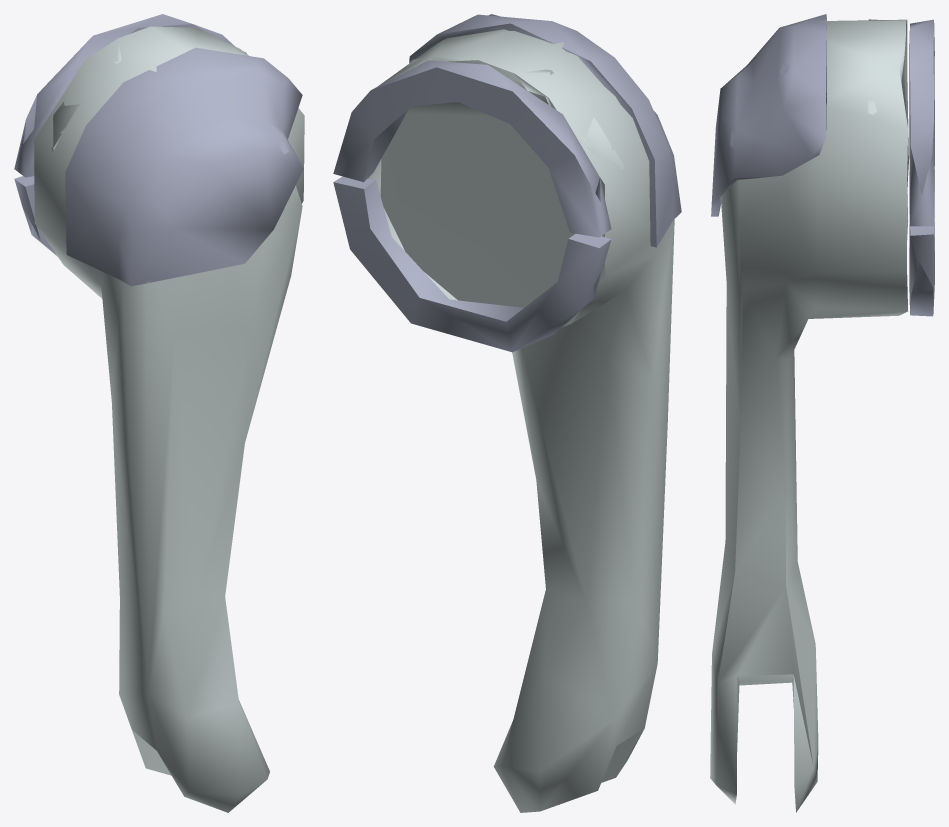
File: thigh_mirror_dae.dae
3 renders of one model, left to right at view 1: azimuth 30°, elevation 25°; view 2: azimuth 150°, elevation 25°; view 3: azimuth 270°, elevation 25°, orthographic. The views are drawn at different scales.
Visible parts, largest first — view 1: thigh_mirror_dae; view 2: thigh_mirror_dae; view 3: thigh_mirror_dae.
Boxes of the visible parts, x1,y1,x2,y2 form: thigh_mirror_dae: (14,14,304,812); thigh_mirror_dae: (333,14,681,812); thigh_mirror_dae: (710,14,934,812).
Size of the model in its own units: 0.0964 by 0.0729 by 0.2778.
